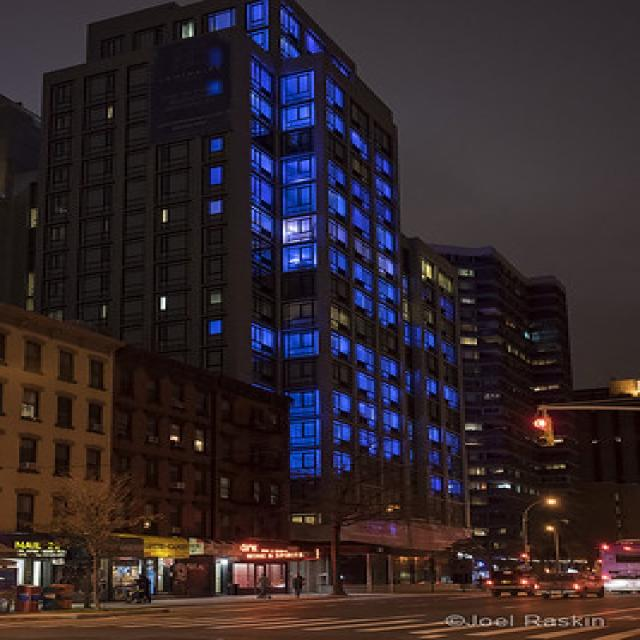building: (32, 5, 416, 590)
